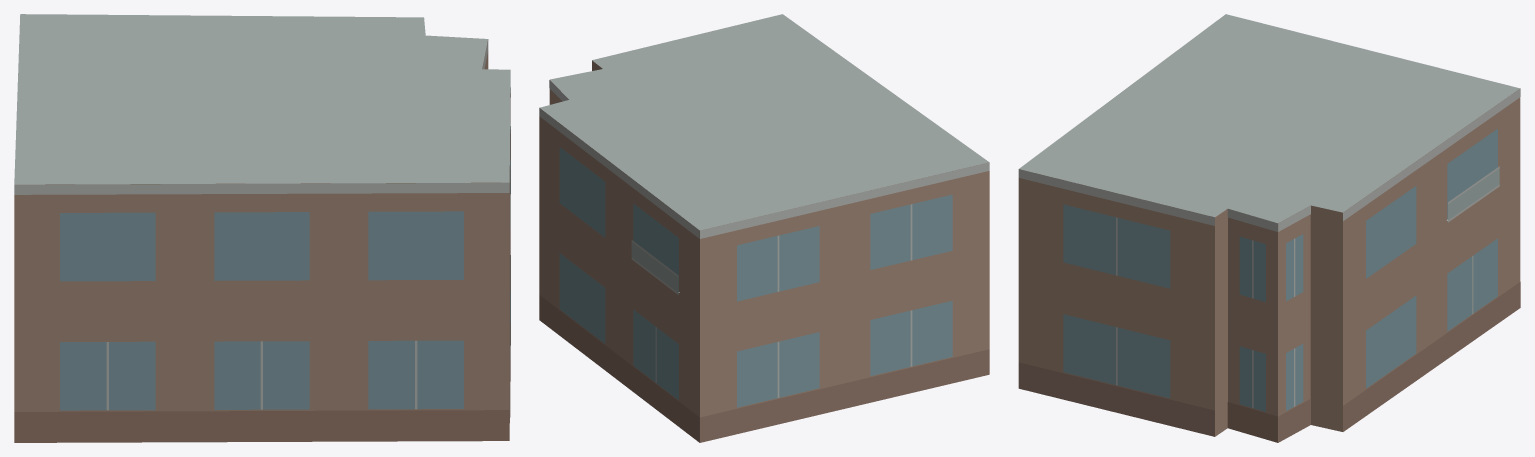
Rendered from survey-upis-32654950.glb.
3 renders of one model, left to right at view 1: azimuth 30°, elevation 25°; view 2: azimuth 150°, elevation 25°; view 3: azimuth 270°, elevation 25°, orthographic. The views are drawn at different scales.
Visible parts, largest first — view 1: survey-upis-32654950.tmp; view 2: survey-upis-32654950.tmp; view 3: survey-upis-32654950.tmp.
Boxes of the visible parts, x1,y1,x2,y2 form: survey-upis-32654950.tmp: (14,14,510,442); survey-upis-32654950.tmp: (539,14,989,442); survey-upis-32654950.tmp: (1018,14,1520,442).
Bounding box in the file's own units: 12.48 × 6.1 × 12.64.
